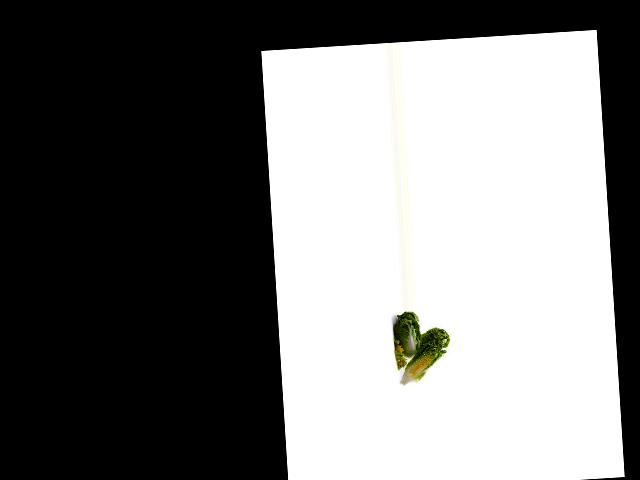lettuce: (390, 312, 424, 364)
